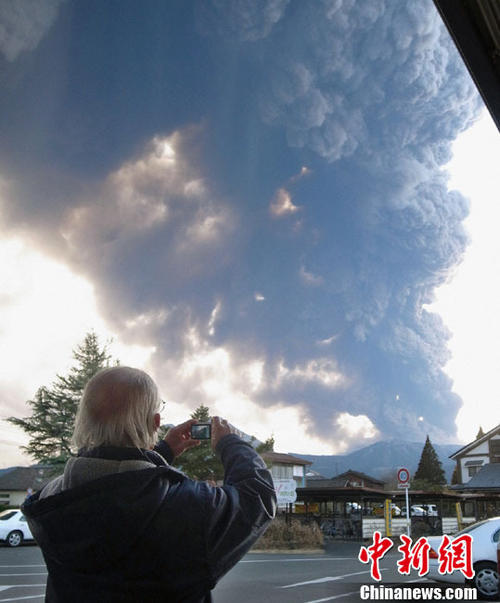smoke: (73, 4, 456, 390)
